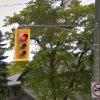Traffic light: (10, 22, 45, 74)
